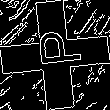P_W: (28, 34, 82, 76)
